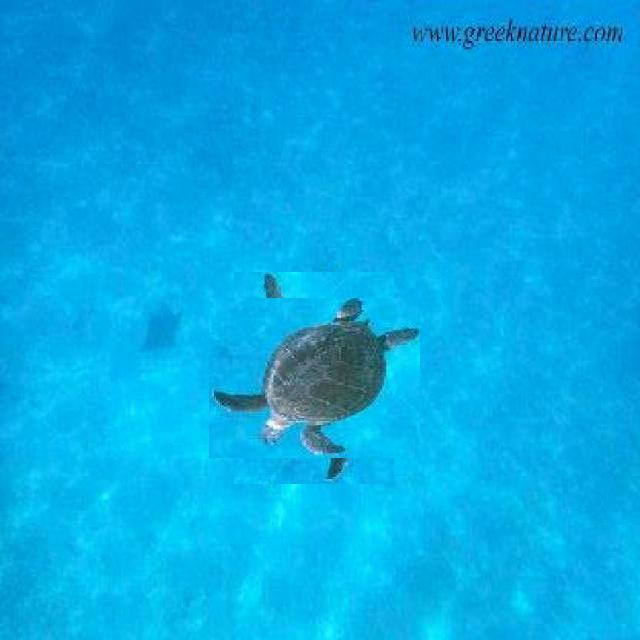Sea turtle: (221, 285, 407, 471)
